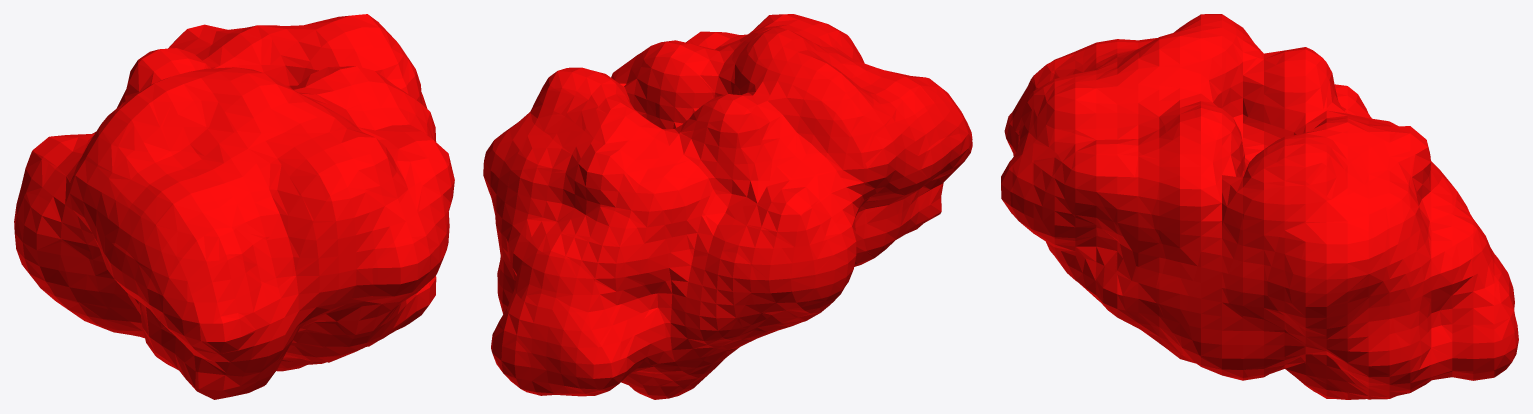
The model's file is yejK_coarse.dae.
3 views of the same model, side by side, from view 1: azimuth 30°, elevation 25°; view 2: azimuth 150°, elevation 25°; view 3: azimuth 270°, elevation 25° (orthographic). The views are drawn at different scales.
Parts seen in each view (by area): view 1: yejK; view 2: yejK; view 3: yejK.
Part boxes in pixels (x1,y1,x2,y2): yejK: (14, 14, 454, 399); yejK: (483, 14, 972, 399); yejK: (1001, 14, 1518, 399).
Bounding box in the file's own units: 55.48 × 48.34 × 67.3.
